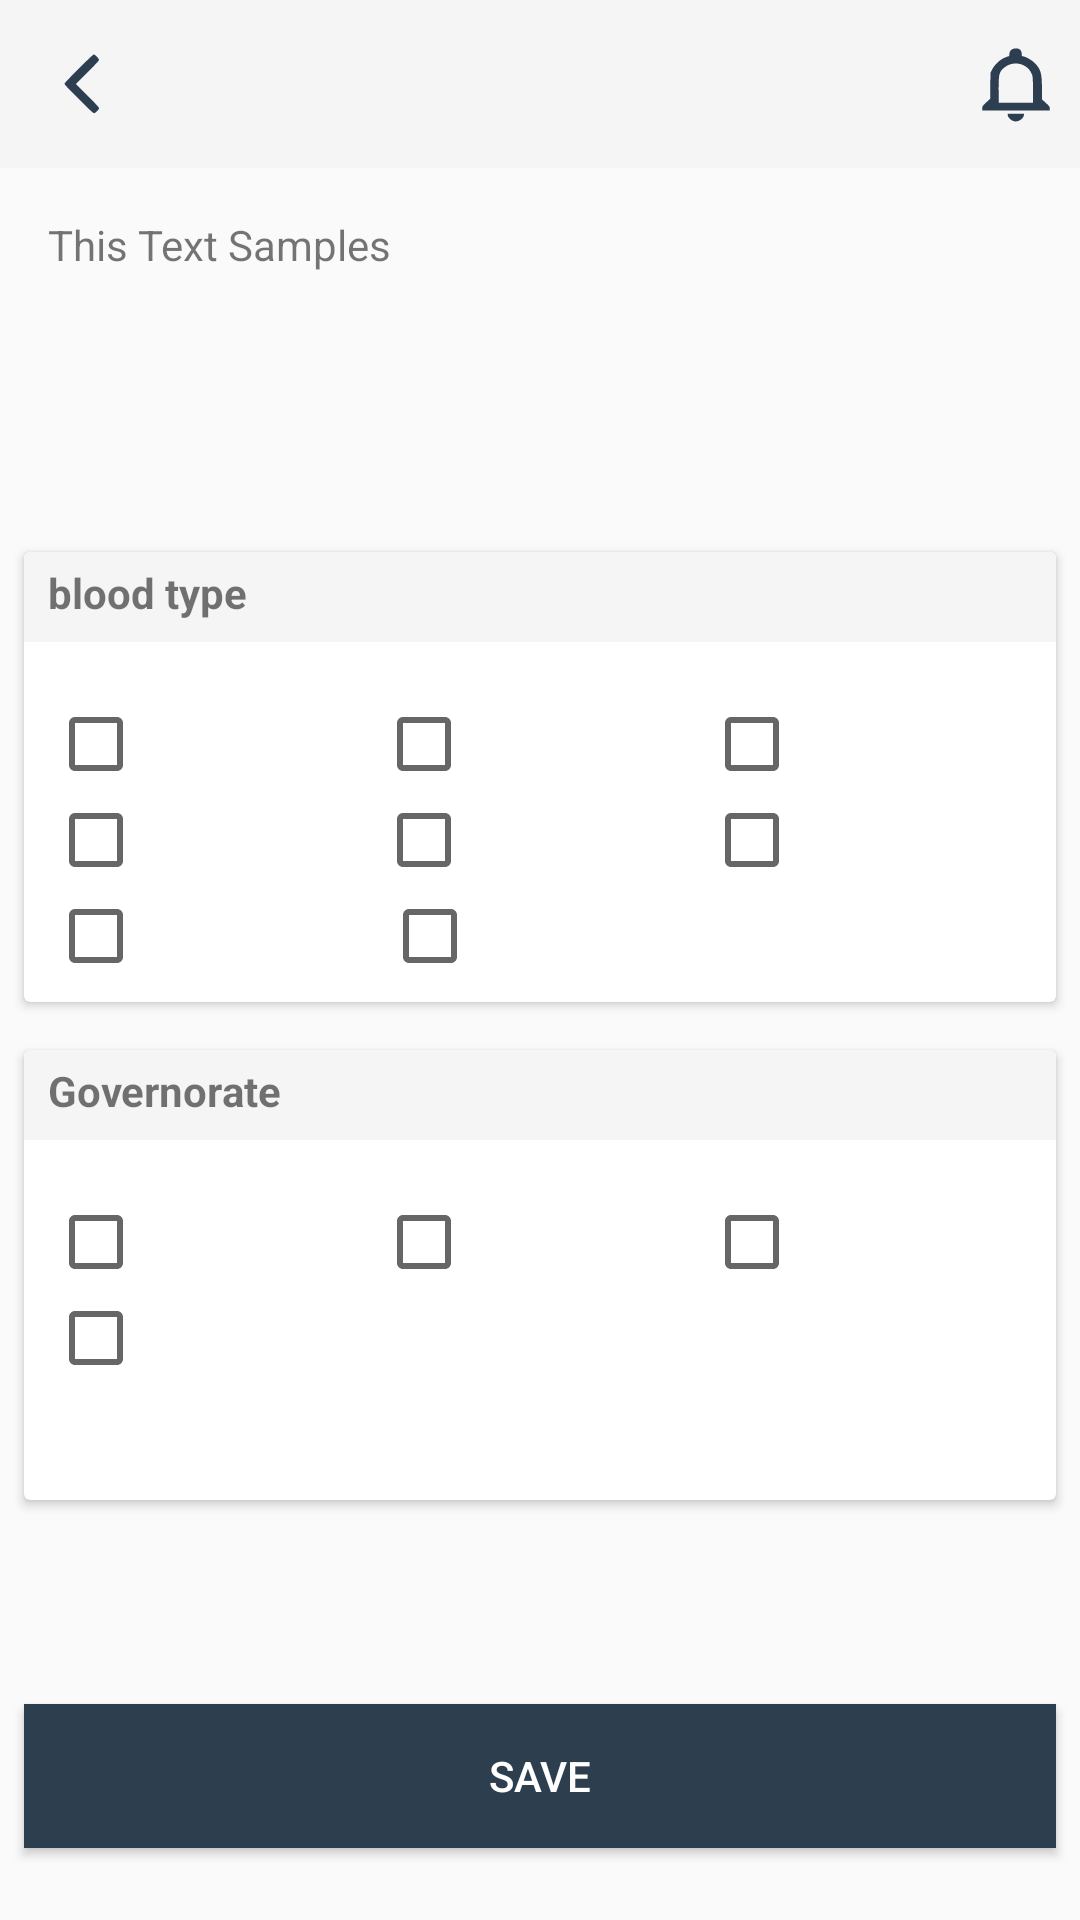

Named icons in this screenshot (1080*1920) and their centers, (x=x, y=y):
leftarrow: (x=81, y=83)
notfications: (x=1016, y=85)
